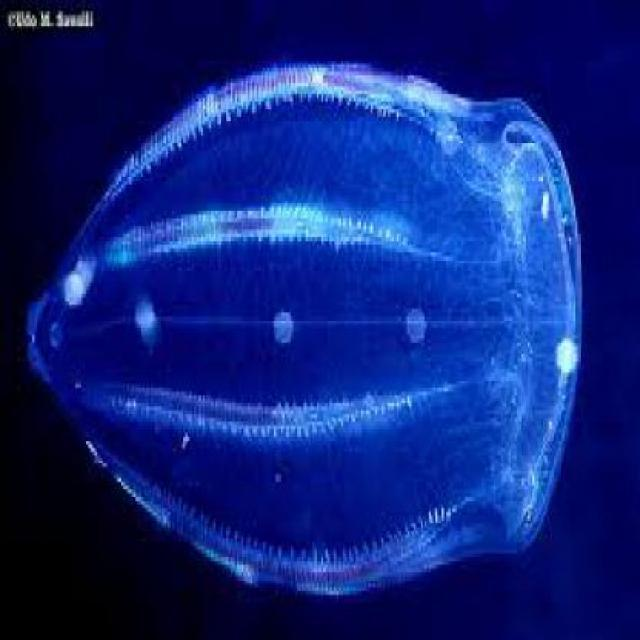Jellyfish: (23, 48, 586, 600)
